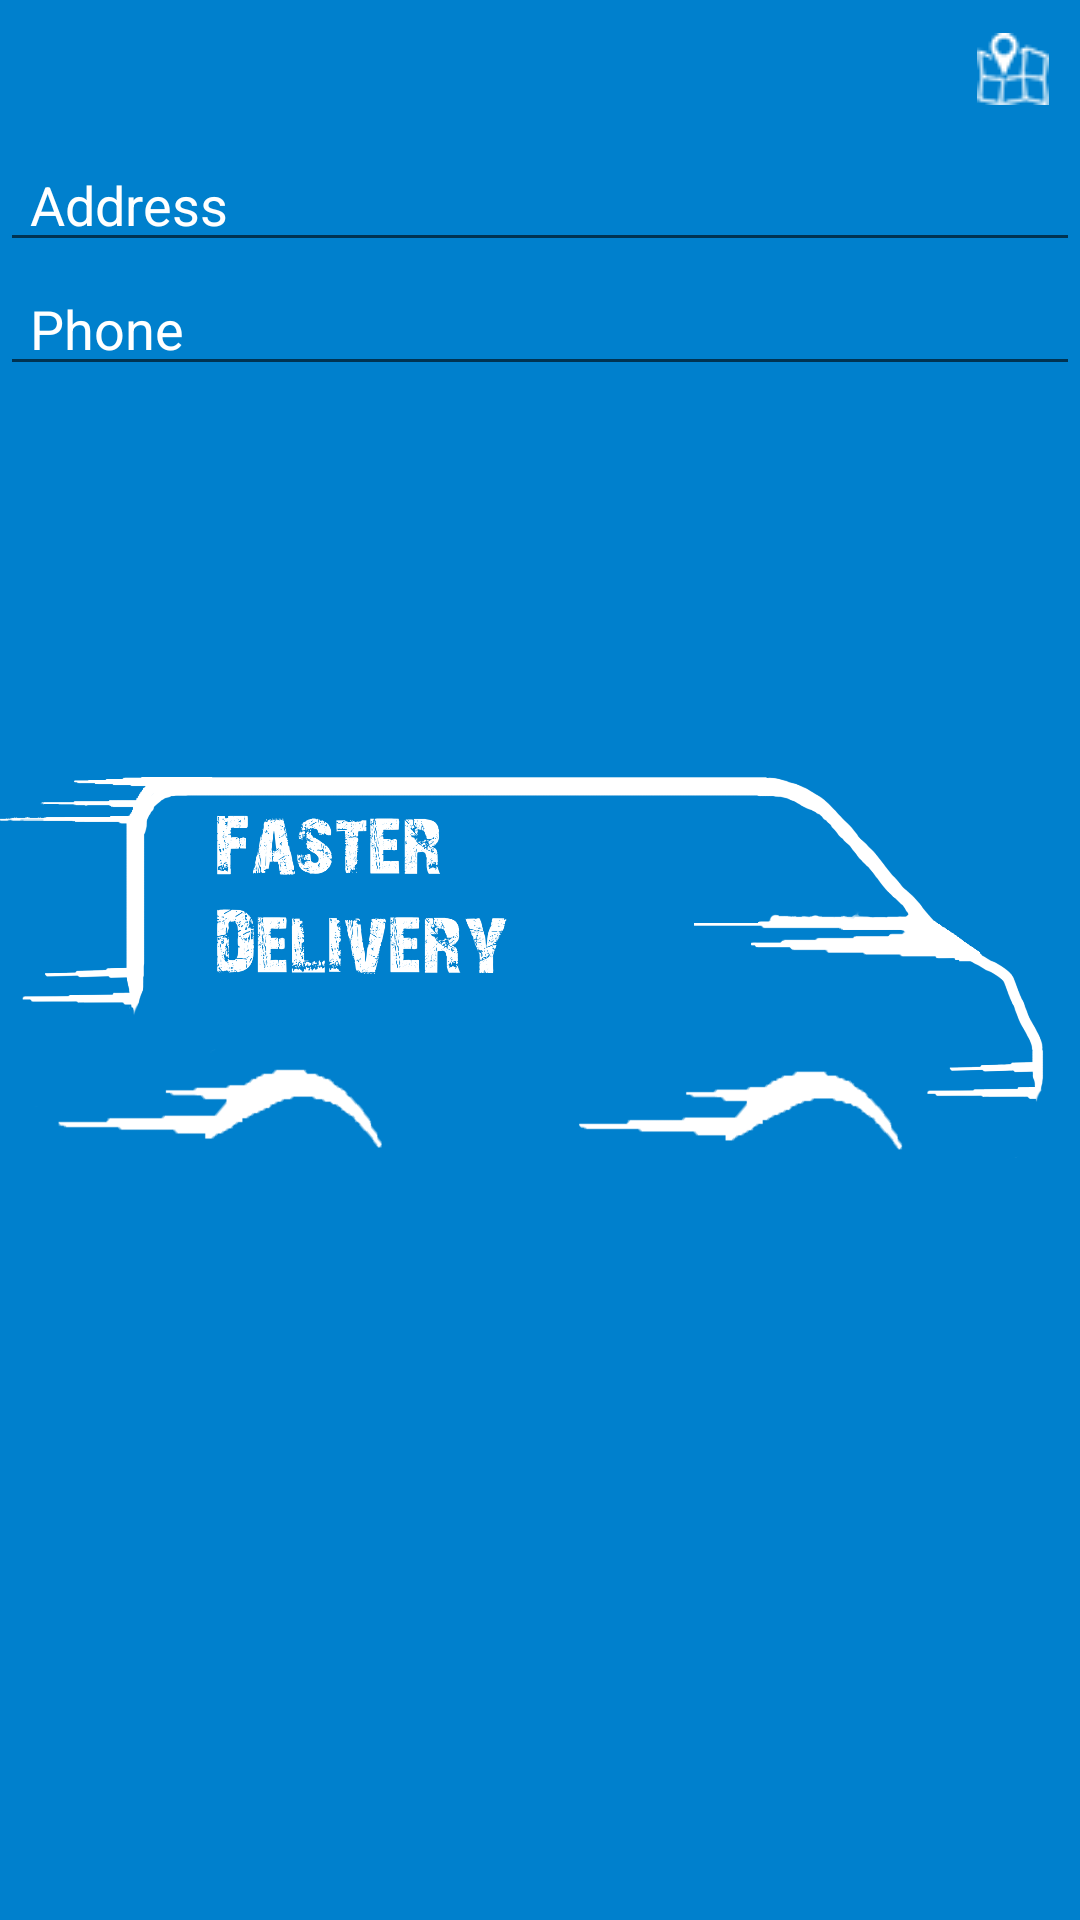

Where to tap for icons on this 1080x1920 app screen, as [x,y]:
map location: [1013,69]
